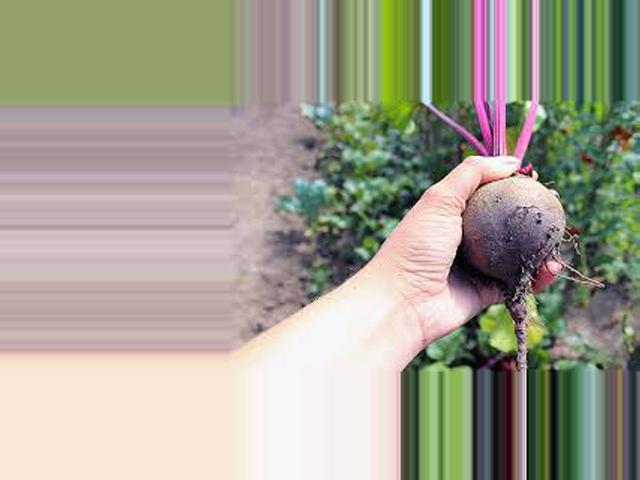beet: (419, 100, 606, 373)
